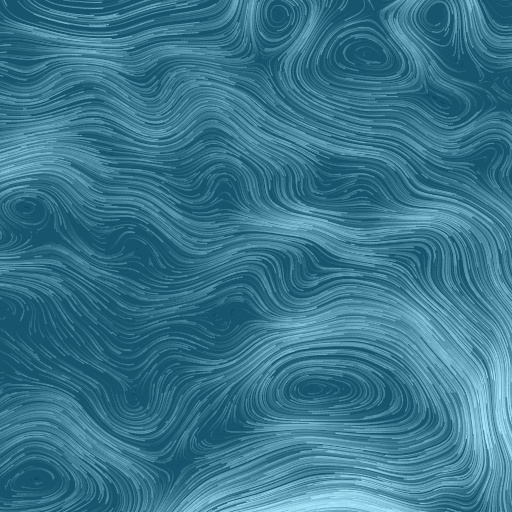eddy: (256, 358, 391, 421), (2, 446, 78, 510), (332, 28, 396, 74), (408, 1, 462, 48), (251, 1, 304, 44), (7, 193, 52, 223)
